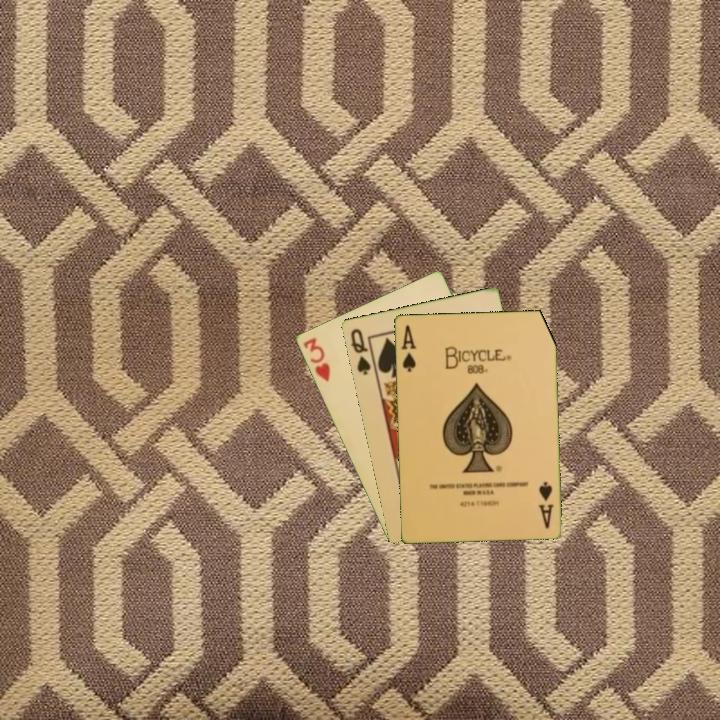3h: (299, 334, 333, 385)
As: (397, 321, 419, 374), (535, 478, 556, 531)
Qs: (347, 325, 373, 378)
